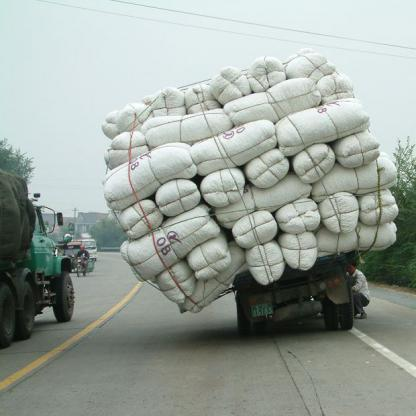overloaded-truck: (103, 63, 399, 301)
